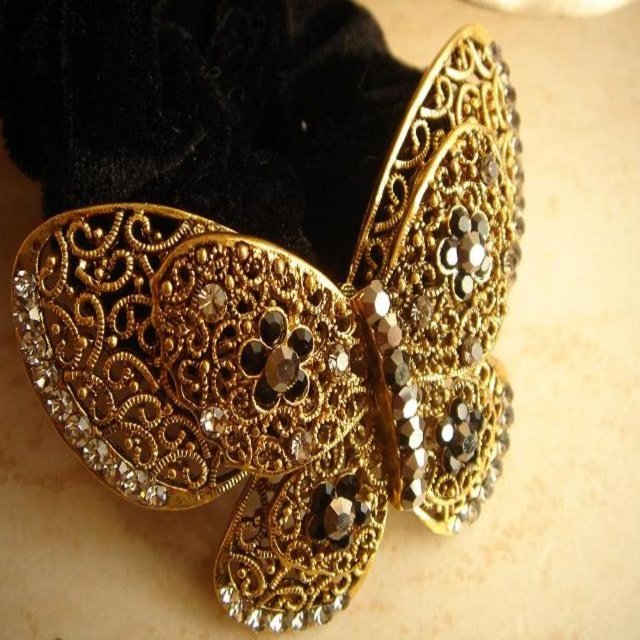Butterfly: (10, 25, 526, 632)
